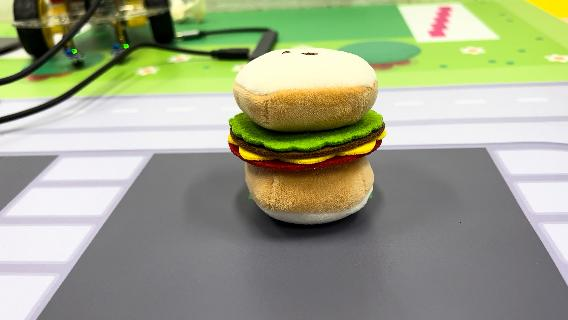sandwich: (226, 44, 388, 226)
